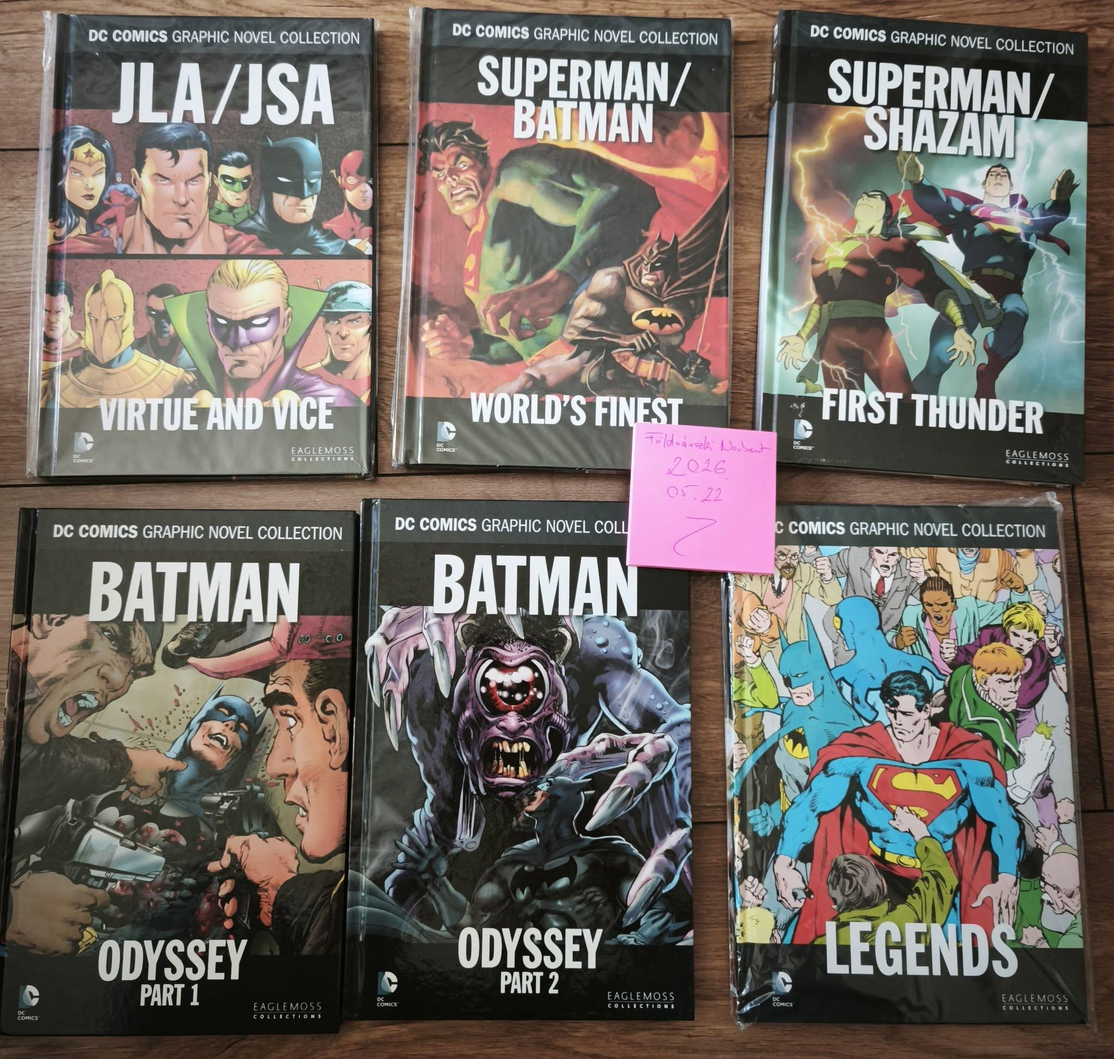comic: (719, 496, 1088, 1031), (0, 505, 356, 1040), (345, 501, 694, 1020), (752, 10, 1106, 484), (27, 15, 379, 481), (393, 8, 735, 469)
